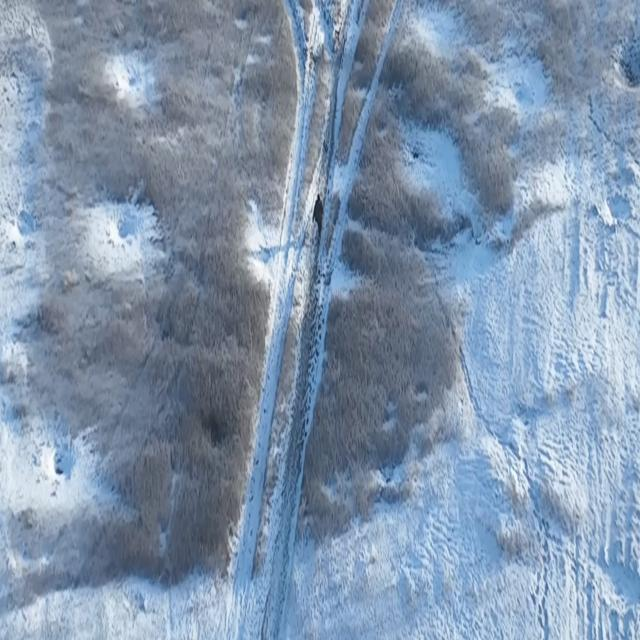infantry: (311, 187, 327, 244)
